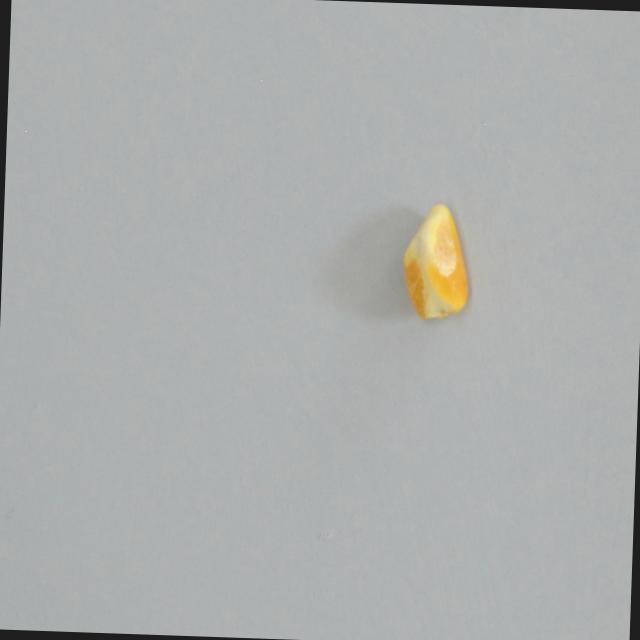pelicula: (401, 200, 474, 321)
